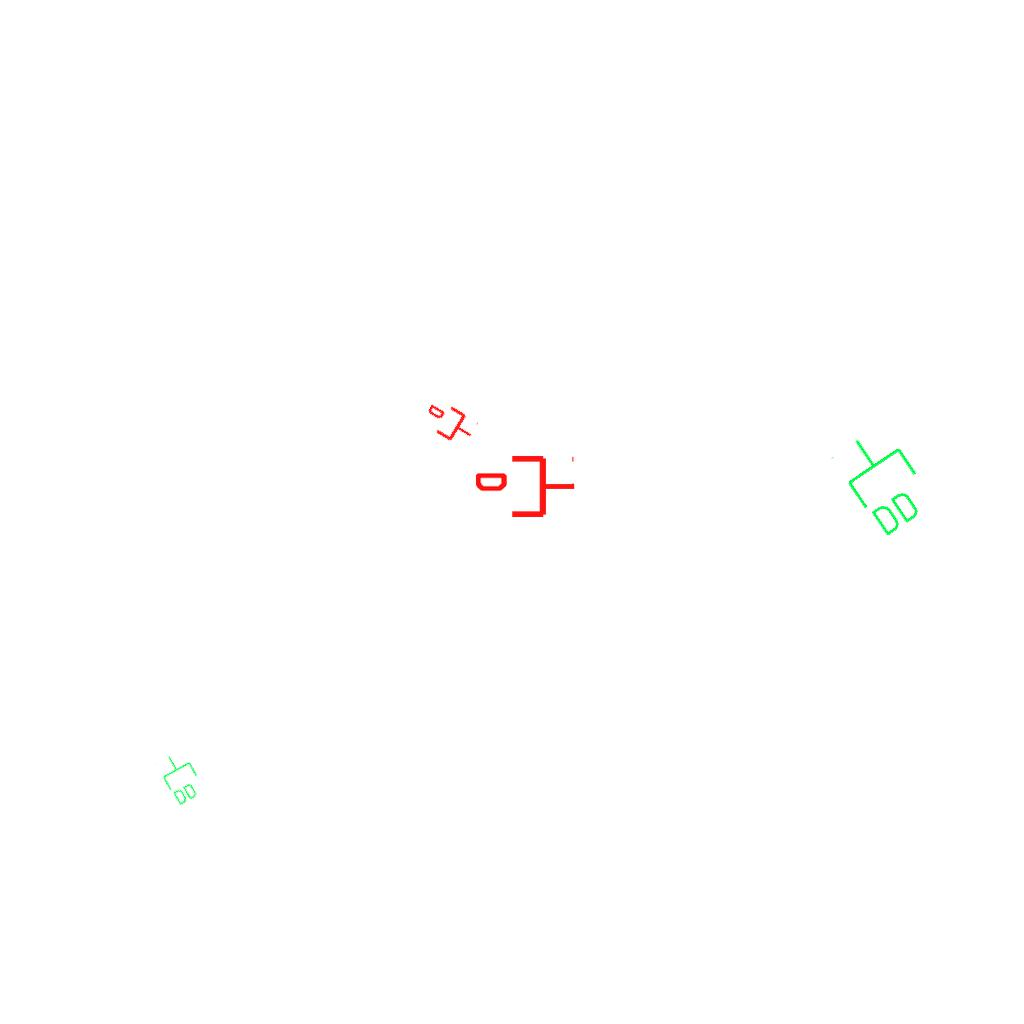Datenanschluss_einfach: (476, 452, 576, 521), (419, 395, 481, 451)
Datenanschluss_zweifach: (826, 419, 941, 544), (153, 747, 208, 809)
